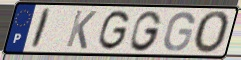G: (96, 9, 132, 52), (129, 9, 164, 53), (162, 11, 196, 53)
I: (29, 7, 54, 51)
K: (64, 9, 98, 51)
O: (192, 9, 232, 55)
